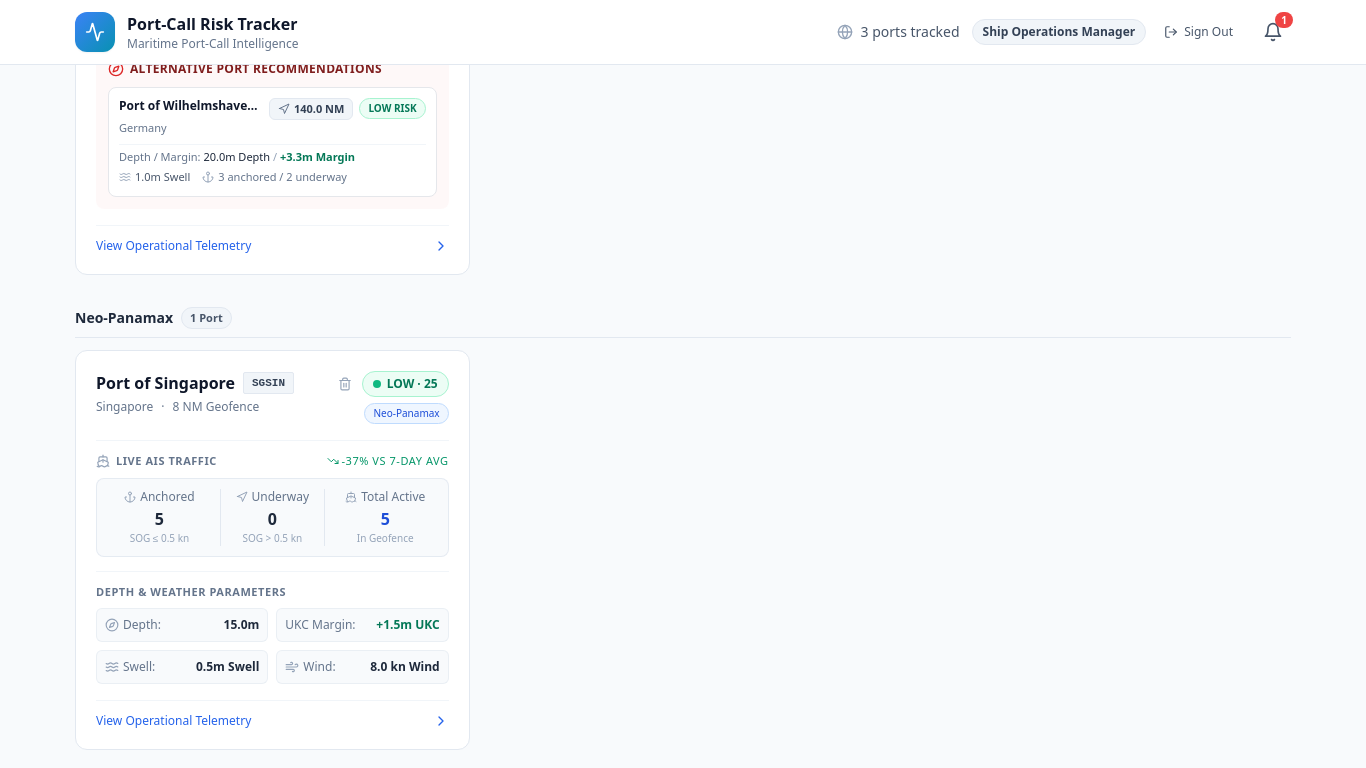
Scenario: Frontend End-to-End User Journey (Issue 24) › allows directly removing a port card from the main page grid via the card trash icon
(page scrolled)
Expected: the heading "Port of Singapore" is shown, top-left (96, 371), bottom-right (235, 395)
Note: Click trash button on card
Click the button with test id "remove-port-port-singapore" at (345,384), box top-left (334, 373), bottom-right (356, 395)
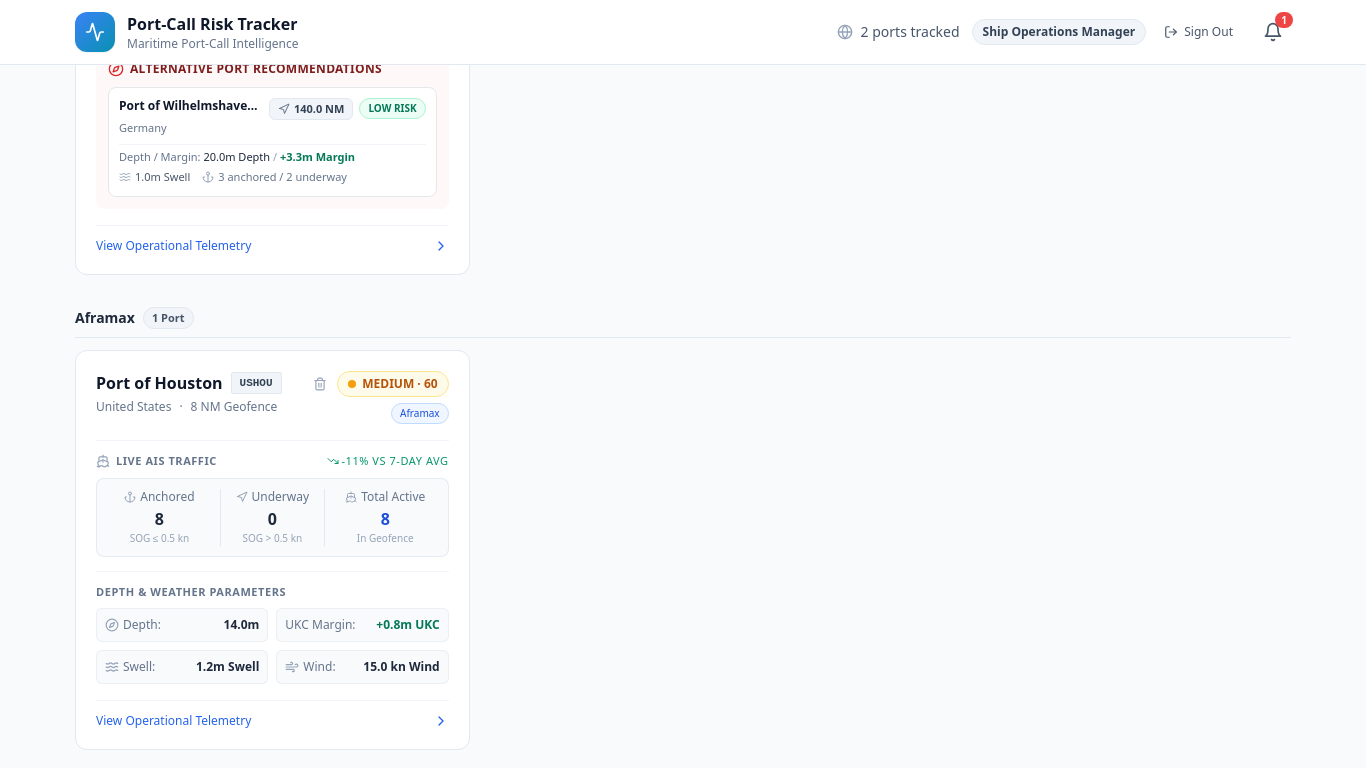
Expected: the element with test id "port-card-port-singapore" is gone
